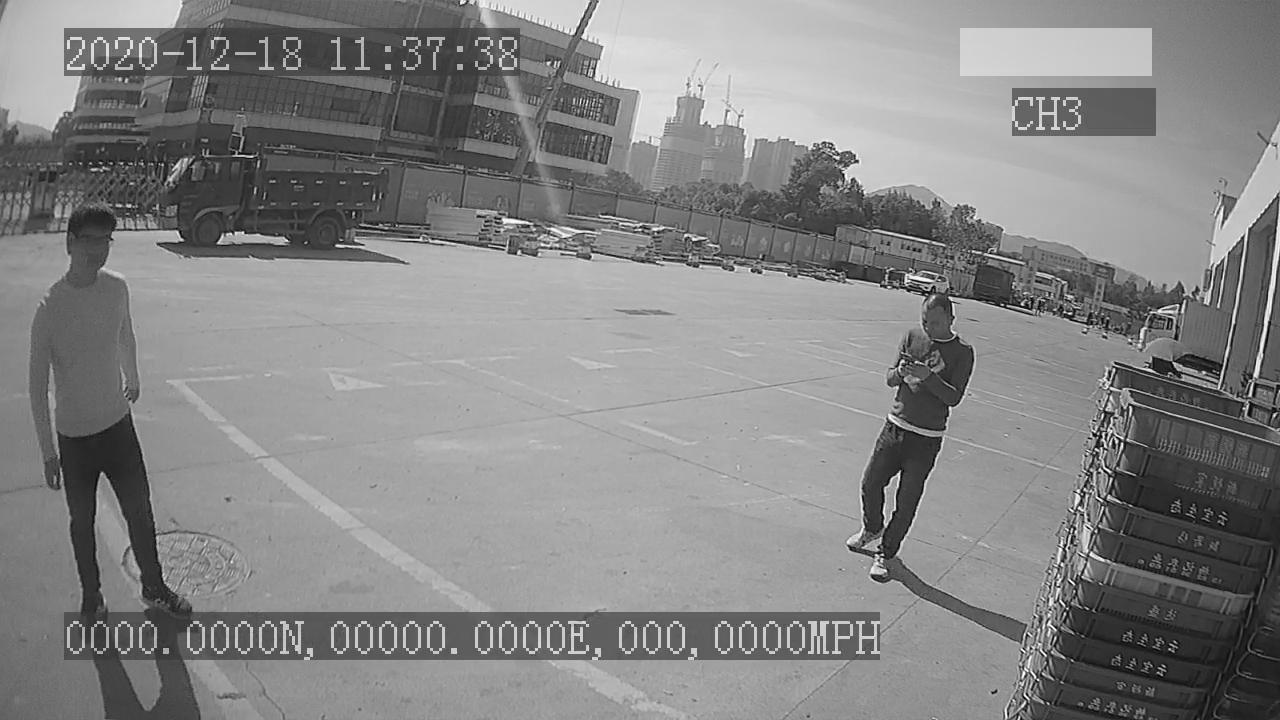person: (842, 290, 975, 581)
